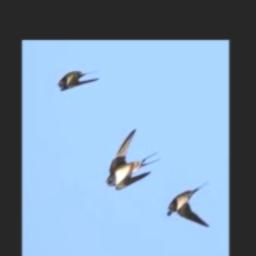Swallow: (106, 130, 161, 191), (168, 181, 210, 228), (58, 70, 100, 92)
